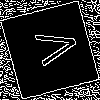V: (24, 25, 80, 69)
